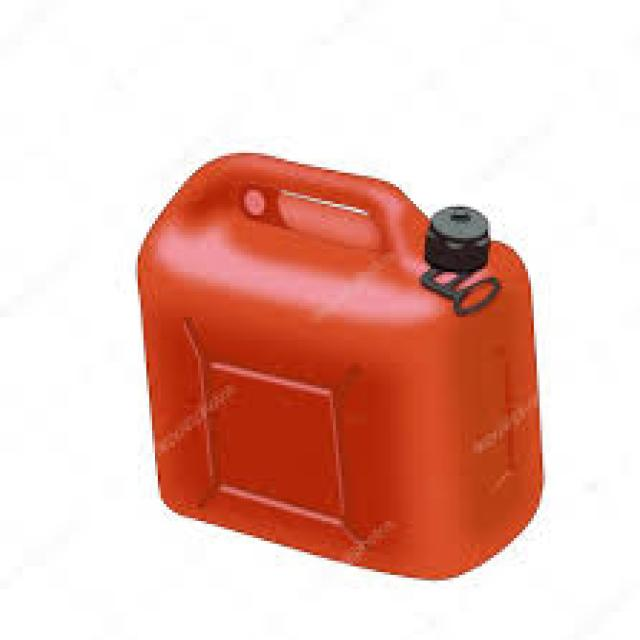gasolin: (138, 153, 548, 583)
